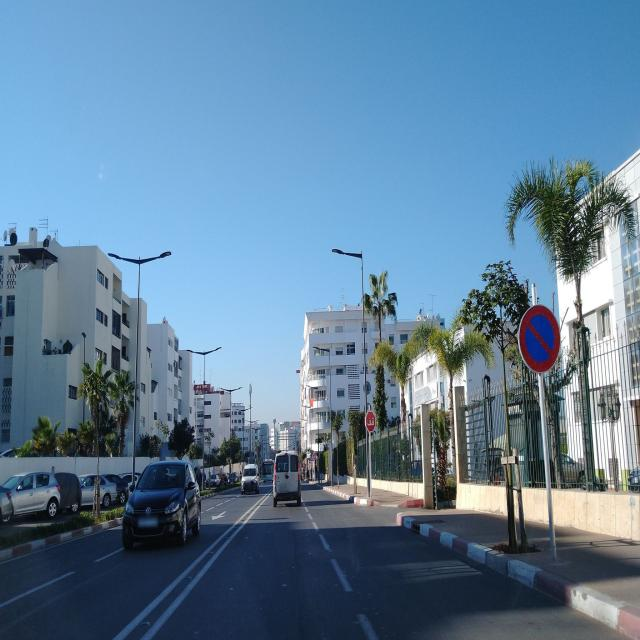forb_stopping: (518, 302, 558, 376)
